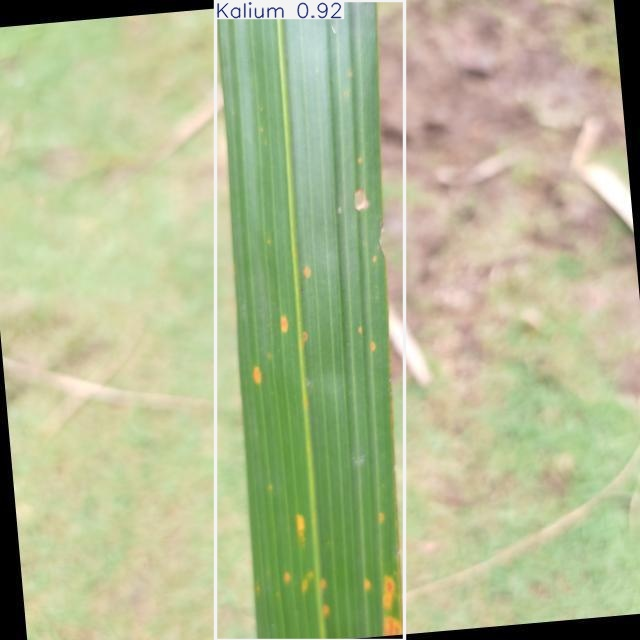Kalium: (215, 0, 404, 640)
